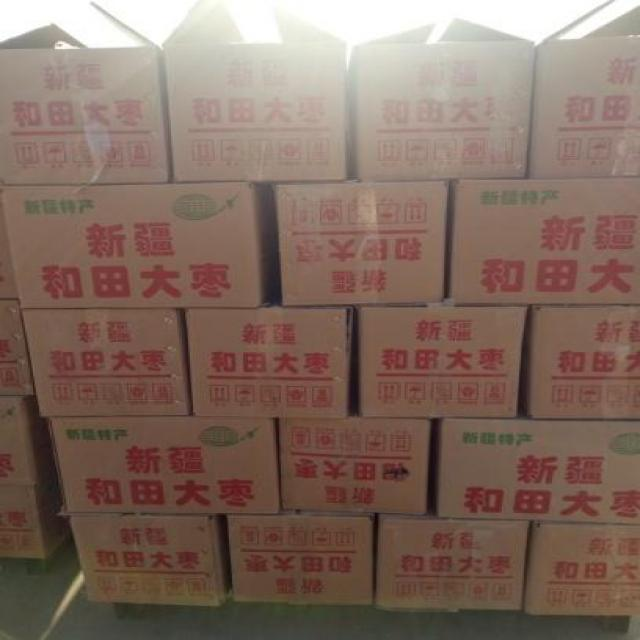box: (154, 0, 361, 186), (0, 183, 274, 313), (348, 14, 540, 178), (0, 14, 176, 189), (443, 167, 640, 309), (275, 183, 461, 309), (430, 414, 640, 523), (49, 421, 284, 517), (352, 299, 533, 421), (180, 301, 348, 423), (13, 304, 191, 419), (527, 0, 640, 175), (278, 413, 443, 517), (65, 506, 223, 614), (372, 508, 522, 612), (531, 298, 640, 422), (227, 515, 377, 605), (518, 517, 640, 614)
